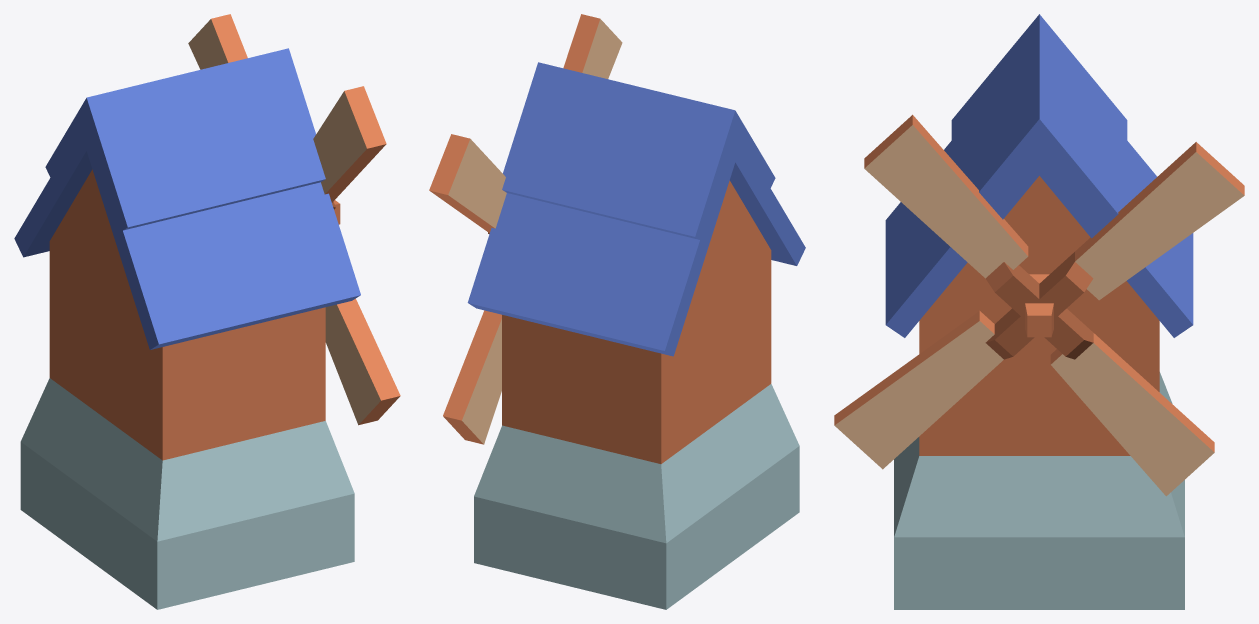
File: unit_mill.dae
3 renders of one model, left to right at view 1: azimuth 30°, elevation 25°; view 2: azimuth 150°, elevation 25°; view 3: azimuth 270°, elevation 25°, orthographic. The views are drawn at different scales.
Parts seen in each view (by area): view 1: unit_mill, mill; view 2: unit_mill, mill; view 3: unit_mill, mill.
Boxes of the visible parts, left/top/right/bottom form: unit_mill: left=14, top=48, right=360, bottom=609; mill: left=188, top=14, right=400, bottom=425; unit_mill: left=467, top=62, right=805, bottom=609; mill: left=429, top=14, right=622, bottom=444; unit_mill: left=885, top=14, right=1193, bottom=609; mill: left=834, top=114, right=1244, bottom=496.
Size of the model in its own units: 0.38 by 0.6811 by 0.5121.
